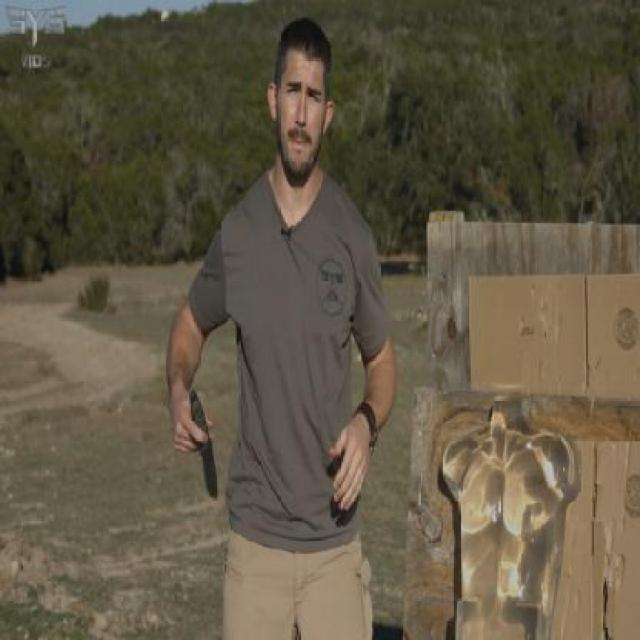-: (171, 382, 222, 506)
